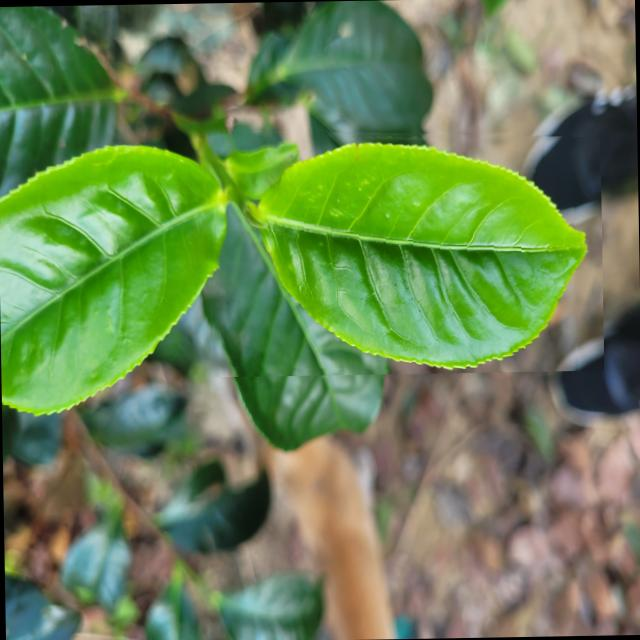Category D(7+ days, Not for Tea): (206, 121, 604, 376)
